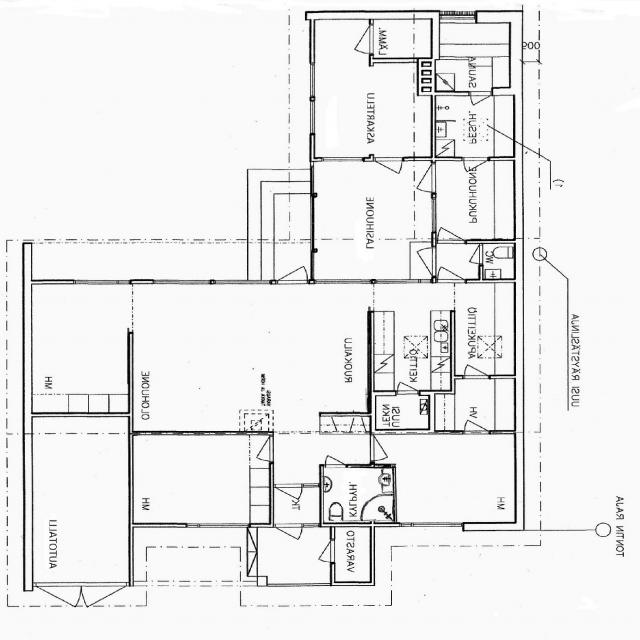door: (36, 583, 82, 628), (82, 583, 126, 628), (401, 164, 435, 192), (339, 26, 374, 53), (278, 252, 308, 283), (402, 248, 436, 275), (371, 435, 402, 461), (275, 523, 302, 552), (243, 436, 274, 461), (376, 157, 402, 186), (438, 255, 464, 283), (438, 215, 464, 243), (276, 484, 302, 512), (464, 157, 488, 183), (465, 408, 489, 434), (465, 353, 488, 379), (308, 540, 335, 562), (325, 445, 346, 468), (397, 371, 418, 394), (471, 91, 490, 113), (460, 246, 483, 264)
